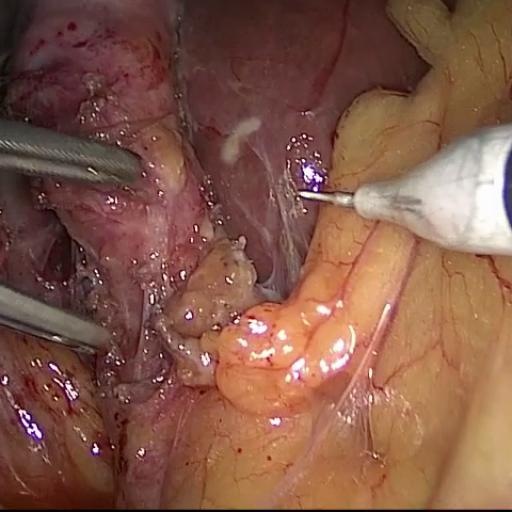Grasper: (0, 82, 160, 413)
Hook: (287, 114, 512, 268)
